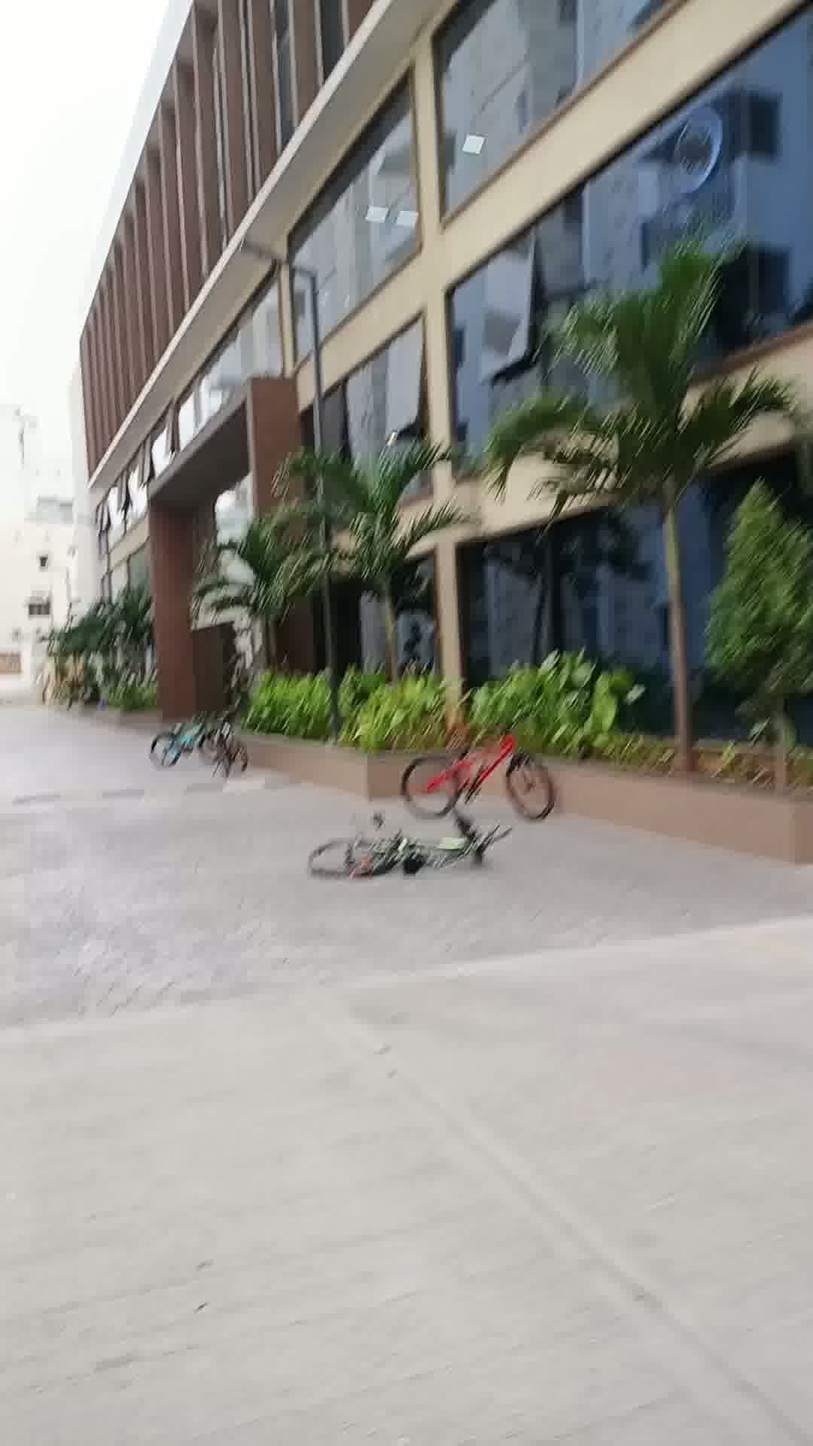bicycle: (390, 695, 597, 825), (287, 817, 526, 911), (134, 695, 256, 786)
tree: (518, 262, 765, 760), (290, 396, 487, 695), (182, 510, 336, 703), (105, 573, 162, 701), (68, 590, 114, 711)
